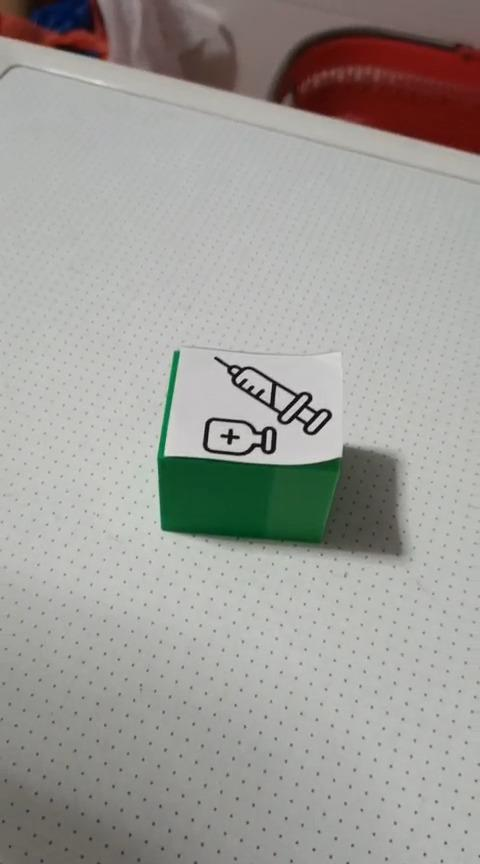antiseptic cream: (155, 344, 345, 544)
